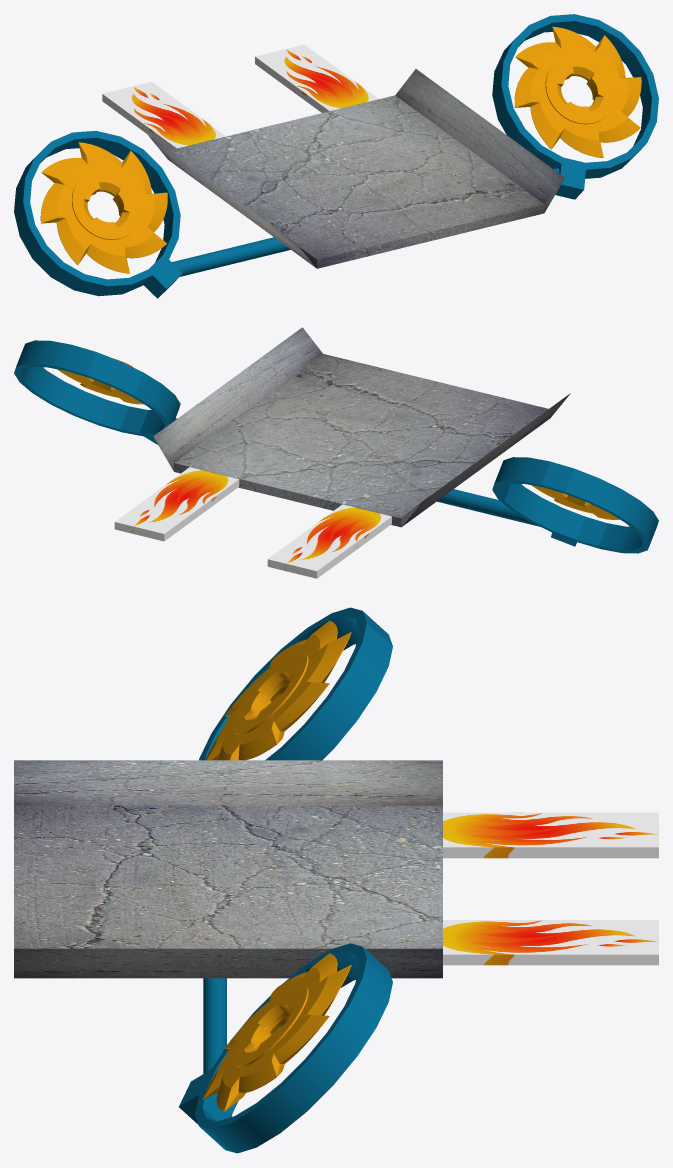
File: Road_final_1 (2).fbx
3 renders of one model, top to bottom at view 1: azimuth 30°, elevation 25°; view 2: azimuth 150°, elevation 25°; view 3: azimuth 270°, elevation 25°, orthographic. The views are drawn at different scales.
Parts seen in each view (by area): view 1: Road, Fan1, Fan, pCylinder9, pCylinder10, pCube1, pCube2, Rod; view 2: Road, pCylinder9, pCylinder10, pCube2, pCube1, Rod, Fan, Fan1; view 3: Road, pCylinder10, pCube1, pCube2, Fan1, Fan, pCylinder9, Rod.
Part boxes in pixels (<box>): Road: <box>148,69,564,268</box>; Fan1: <box>514,26,641,157</box>; Fan: <box>40,142,167,273</box>; pCylinder9: <box>14,130,182,298</box>; pCylinder10: <box>492,14,658,199</box>; pCube1: <box>102,81,226,150</box>; pCube2: <box>255,44,378,112</box>; Rod: <box>172,168,559,276</box>; Road: <box>153,327,570,527</box>; pCylinder9: <box>492,457,658,553</box>; pCylinder10: <box>14,340,180,444</box>; pCube2: <box>114,467,239,541</box>; pCube1: <box>267,504,391,578</box>; Rod: <box>437,489,539,526</box>; Fan: <box>531,485,619,519</box>; Fan1: <box>57,349,143,404</box>; Road: <box>14,760,442,978</box>; pCylinder10: <box>179,943,392,1153</box>; pCube1: <box>443,812,658,858</box>; pCube2: <box>443,920,658,965</box>; Fan1: <box>202,953,351,1111</box>; Fan: <box>205,620,351,760</box>; pCylinder9: <box>199,607,392,760</box>; Rod: <box>203,978,226,1073</box>.
Size of the model in its own units: 72.54 by 14.99 by 45.09.
5 materials, 2 textured.
